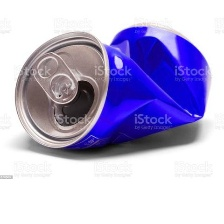can: (9, 19, 217, 156)
